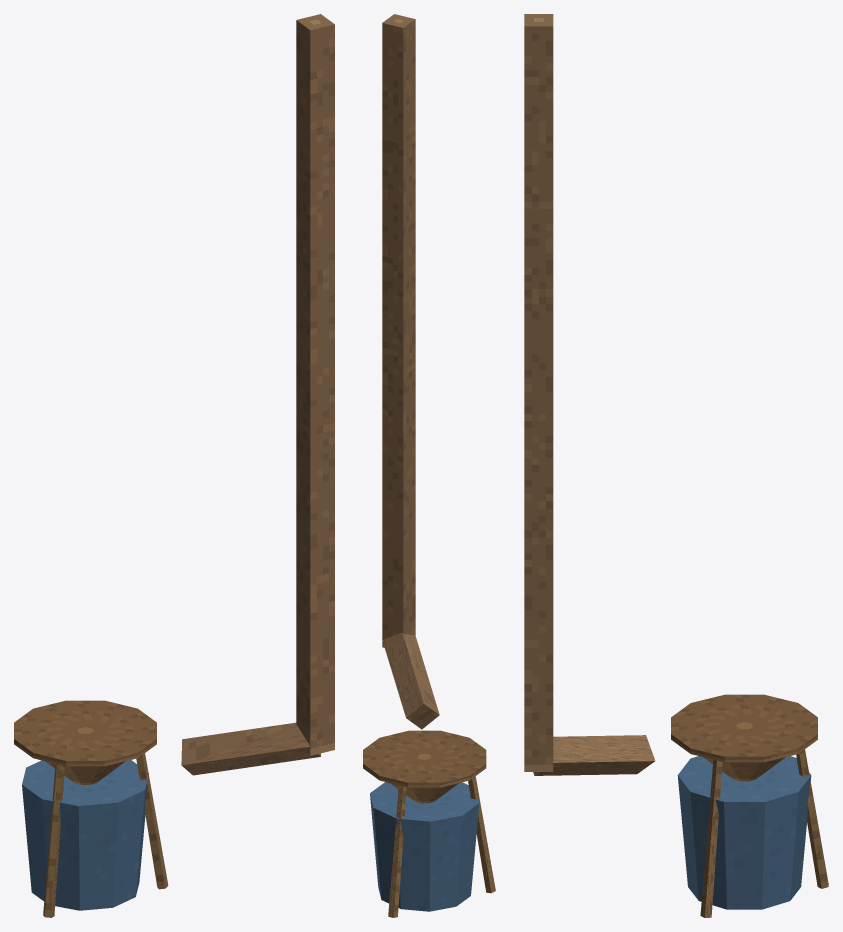
File: tr_downspout_funnel.glb
The picture shows the model from 3 angles, left to right: view 1: azimuth 30°, elevation 25°; view 2: azimuth 150°, elevation 25°; view 3: azimuth 270°, elevation 25°; orthographic projection. The views are drawn at different scales.
Visible parts, largest first — view 1: block_downspout, block_bucket, block_funnel rim, block_downspout elbow, block_leg (×2), block_funnel; view 2: block_downspout, block_bucket, block_funnel rim, block_downspout elbow, block_leg (×2), block_funnel; view 3: block_downspout, block_bucket, block_funnel rim, block_downspout elbow, block_leg (×2), block_funnel.
Boxes of the visible parts, <box> form: block_downspout: <box>296,14,334,755</box>; block_bucket: <box>22,760,148,910</box>; block_funnel rim: <box>14,700,156,766</box>; block_downspout elbow: <box>181,722,320,775</box>; block_leg (×2): <box>43,753,168,917</box>; block_funnel: <box>45,761,125,784</box>; block_downspout: <box>382,14,415,647</box>; block_bucket: <box>370,782,479,911</box>; block_funnel rim: <box>363,730,486,787</box>; block_downspout elbow: <box>382,632,439,729</box>; block_leg (×2): <box>388,776,495,917</box>; block_funnel: <box>390,783,458,803</box>; block_downspout: <box>524,14,553,771</box>; block_bucket: <box>677,756,811,909</box>; block_funnel rim: <box>671,694,817,762</box>; block_downspout elbow: <box>533,735,655,775</box>; block_leg (×2): <box>700,749,828,917</box>; block_funnel: <box>703,757,785,781</box>.
Bounding box in the file's own units: 0.4727 × 2 × 0.5918.
Materials: 2 (2 with a texture image).
